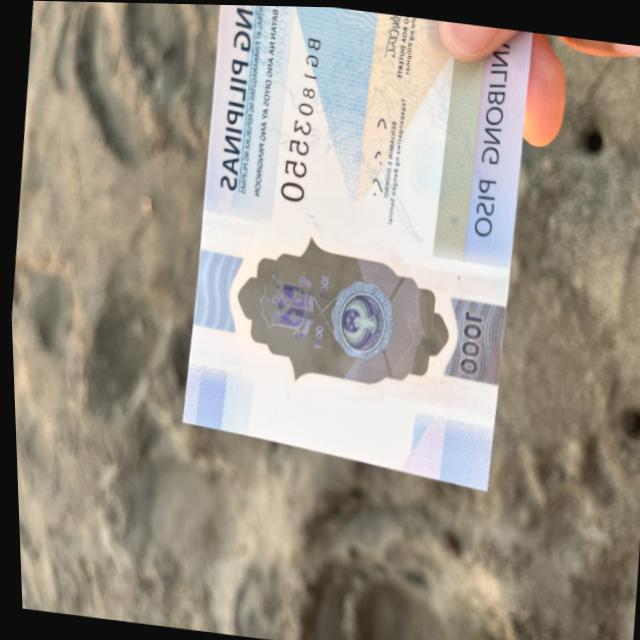clear_window: (215, 211, 460, 409)
